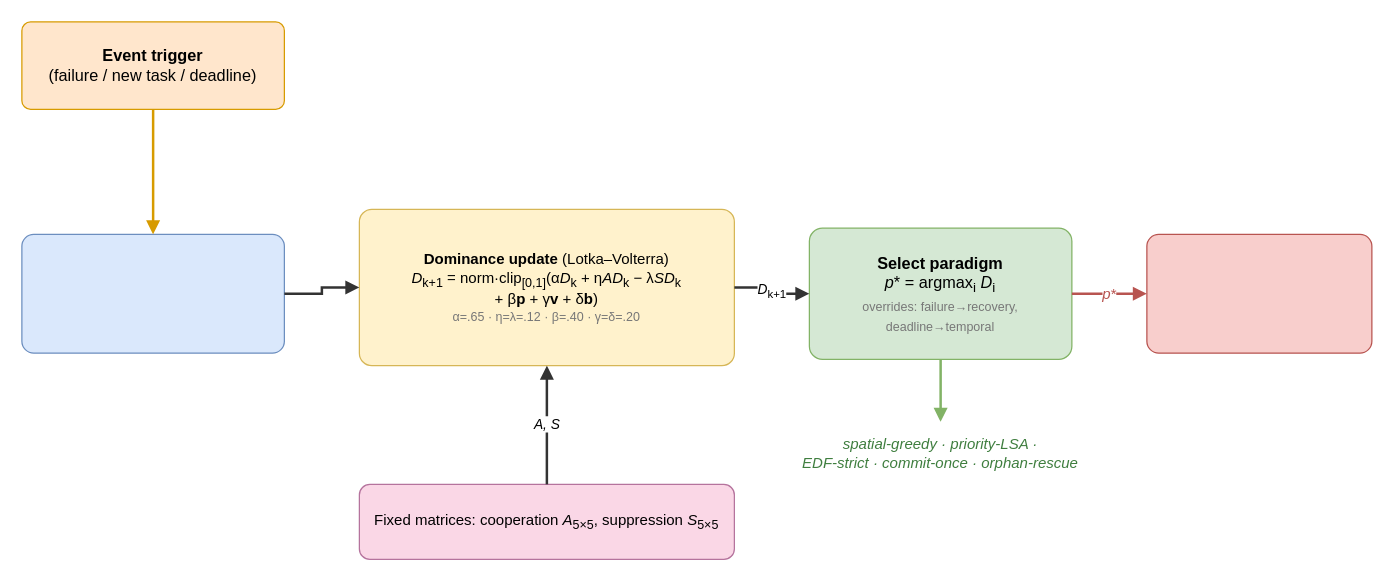
This 1394x581 diagram has some shape labels left out. The centre of each missing label's shape, as x and y in pixels:
"AHE Allocator run p *, publish per-robot queues" belongs at [1259,293].
"Operating State c (t) ∈ [0,1] 4 density · availability · deadline · failure" belongs at [152,293].
